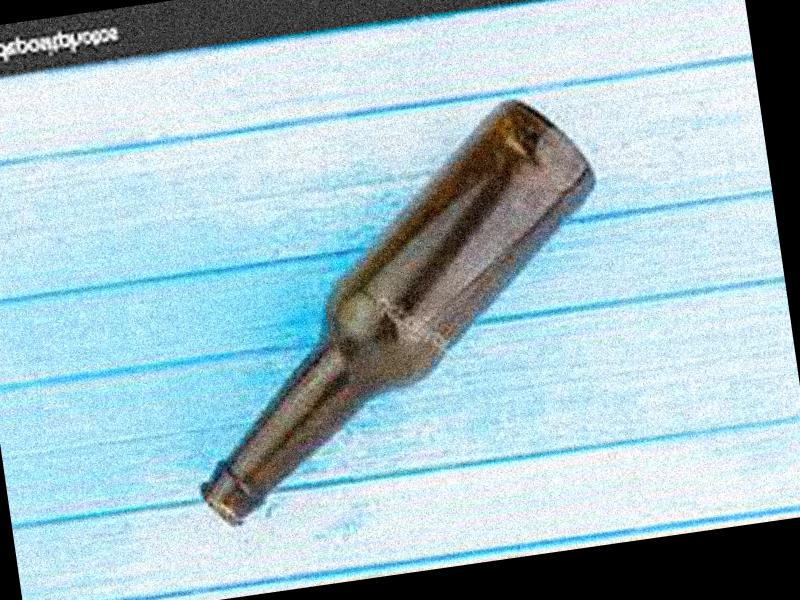Beer: (154, 83, 637, 531)
